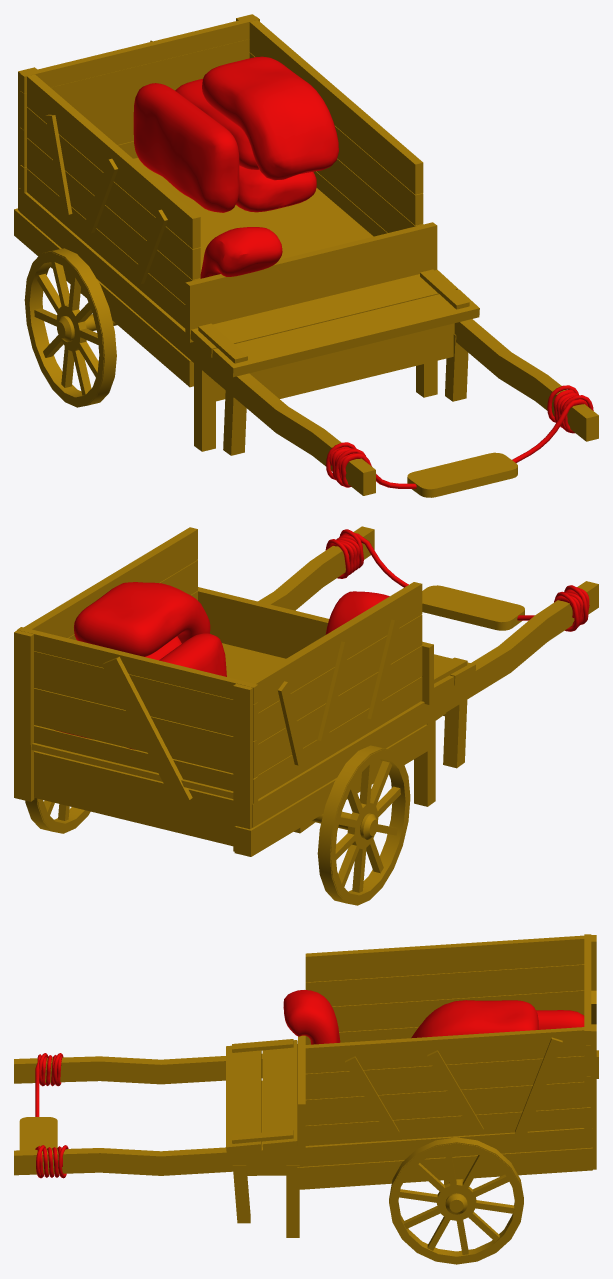
Rendered from SM_Carriage_19.fbx.
The picture shows the model from 3 angles, top to bottom: view 1: azimuth 30°, elevation 25°; view 2: azimuth 150°, elevation 25°; view 3: azimuth 270°, elevation 25°; orthographic projection. The views are drawn at different scales.
Parts seen in each view (by area): view 1: SM_Carriage_19; view 2: SM_Carriage_19; view 3: SM_Carriage_19.
Boxes of the visible parts, x1=… form: SM_Carriage_19: x1=14, y1=14, x2=598, y2=497; SM_Carriage_19: x1=14, y1=526, x2=598, y2=905; SM_Carriage_19: x1=14, y1=934, x2=598, y2=1264.
Size of the model in its own units: 233 by 445 by 185.
